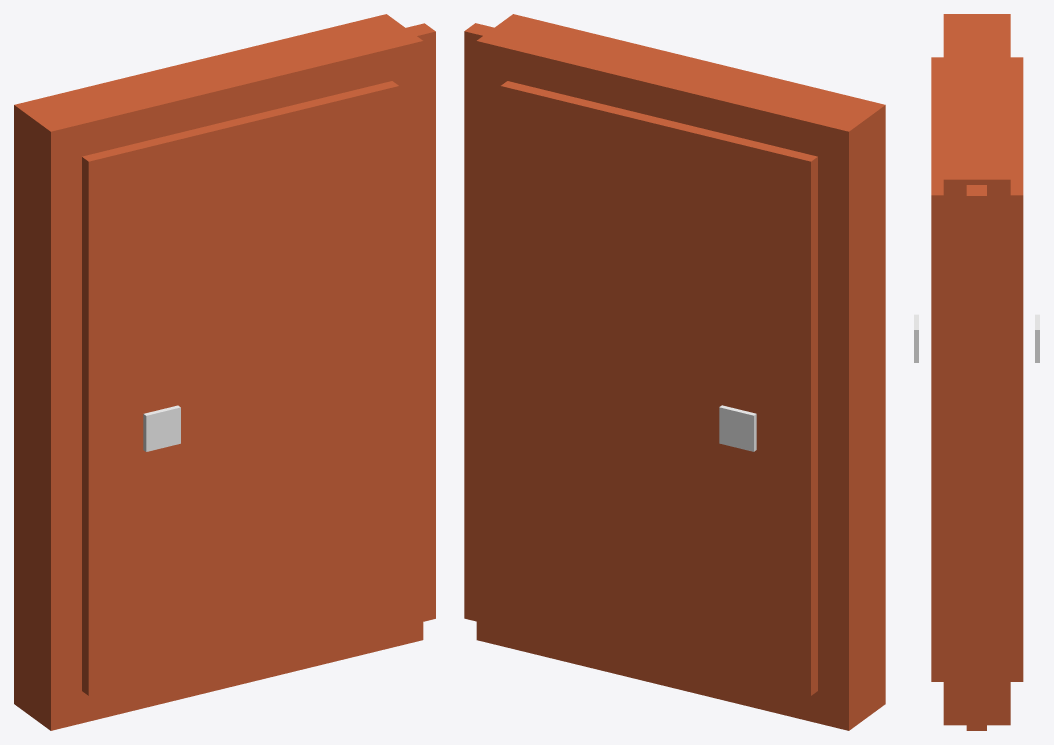
3 renders of one model, left to right at view 1: azimuth 30°, elevation 25°; view 2: azimuth 150°, elevation 25°; view 3: azimuth 270°, elevation 25°, orthographic. The views are drawn at different scales.
Visible parts, largest first — view 1: obj_077, Rectangle010, obj_078; view 2: obj_077, Rectangle010, obj_100; view 3: obj_077, Rectangle010, obj_100, obj_078.
Boxes of the visible parts, box(x1,y1,x2,y2) form: obj_077: box(14, 14, 423, 730); Rectangle010: box(406, 23, 435, 621); obj_078: box(143, 405, 180, 451); obj_077: box(476, 14, 885, 730); Rectangle010: box(464, 23, 493, 621); obj_100: box(719, 405, 756, 451); obj_077: box(931, 14, 1023, 725); Rectangle010: box(966, 185, 986, 730); obj_100: box(1035, 314, 1039, 362); obj_078: box(914, 314, 918, 362).
Bounding box in the file's own units: 0.8 × 1.15 × 0.2408.
